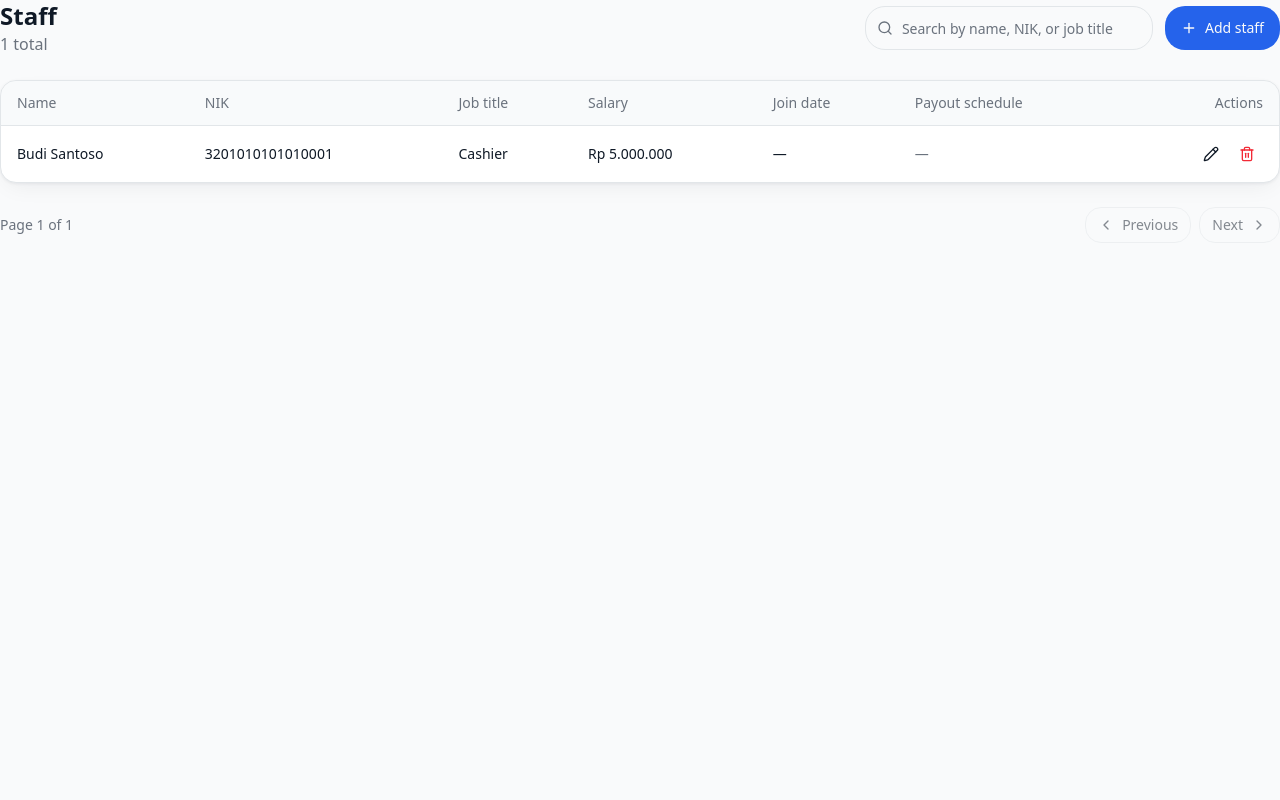
Test: AdminStaffPage › shows delete confirmation overlay
The image size is (1280, 800).
Expected: the text "Budi Santoso" is shown, [1, 126, 189, 182]
Click the button named "Delete staff" at (1247, 154), box [1231, 138, 1263, 170]
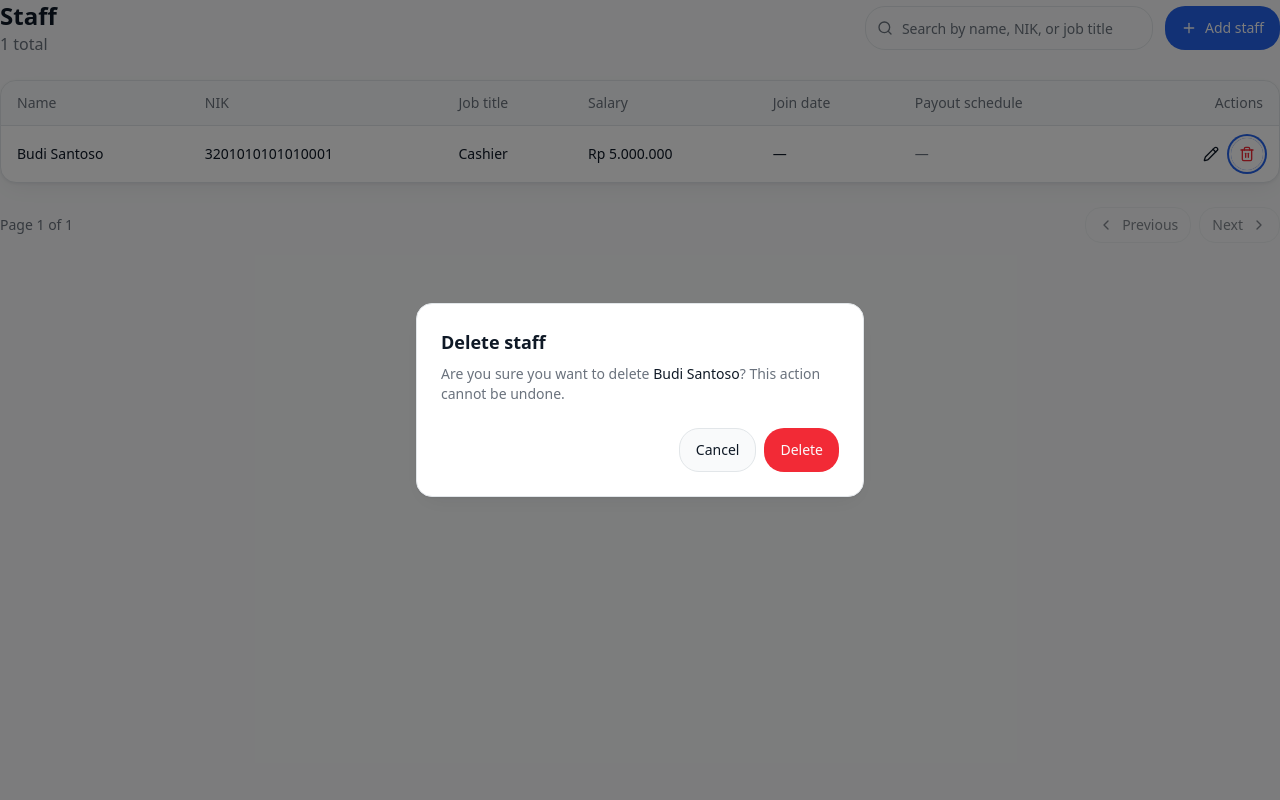
Result: the heading "Delete staff" is shown at [441, 330, 546, 354]
Result: the text "Are you sure you want to delete" is shown at [441, 364, 650, 383]
Result: the button "Cancel" is shown at [679, 428, 756, 472]
